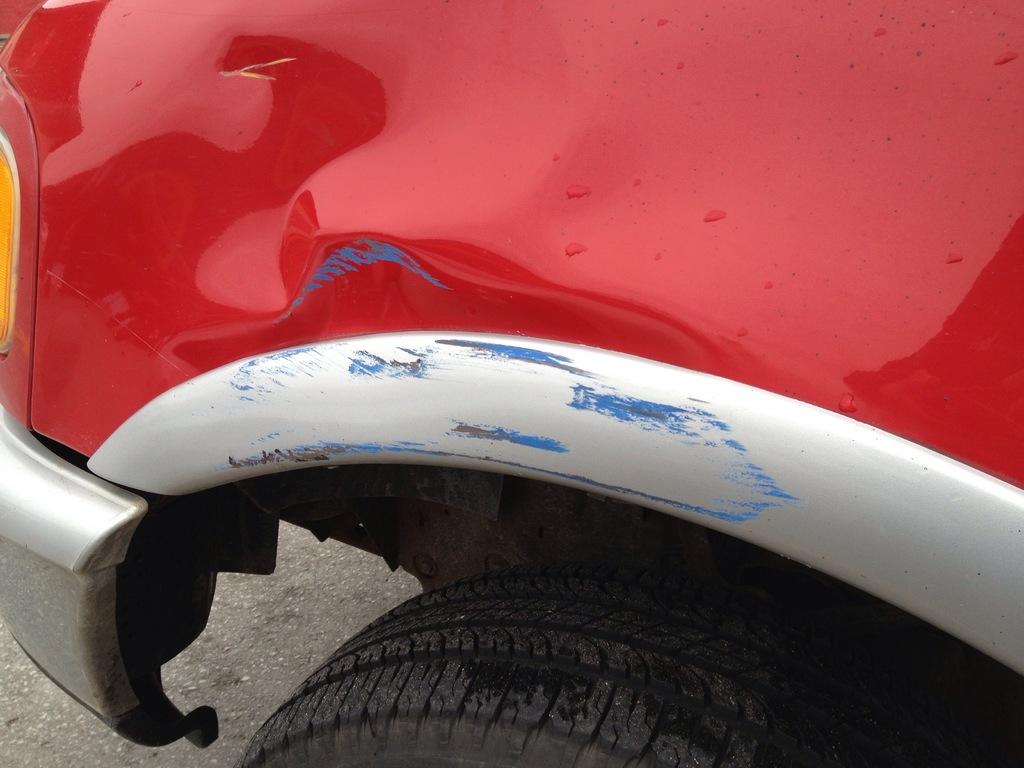cars: (0, 155, 1024, 761)
